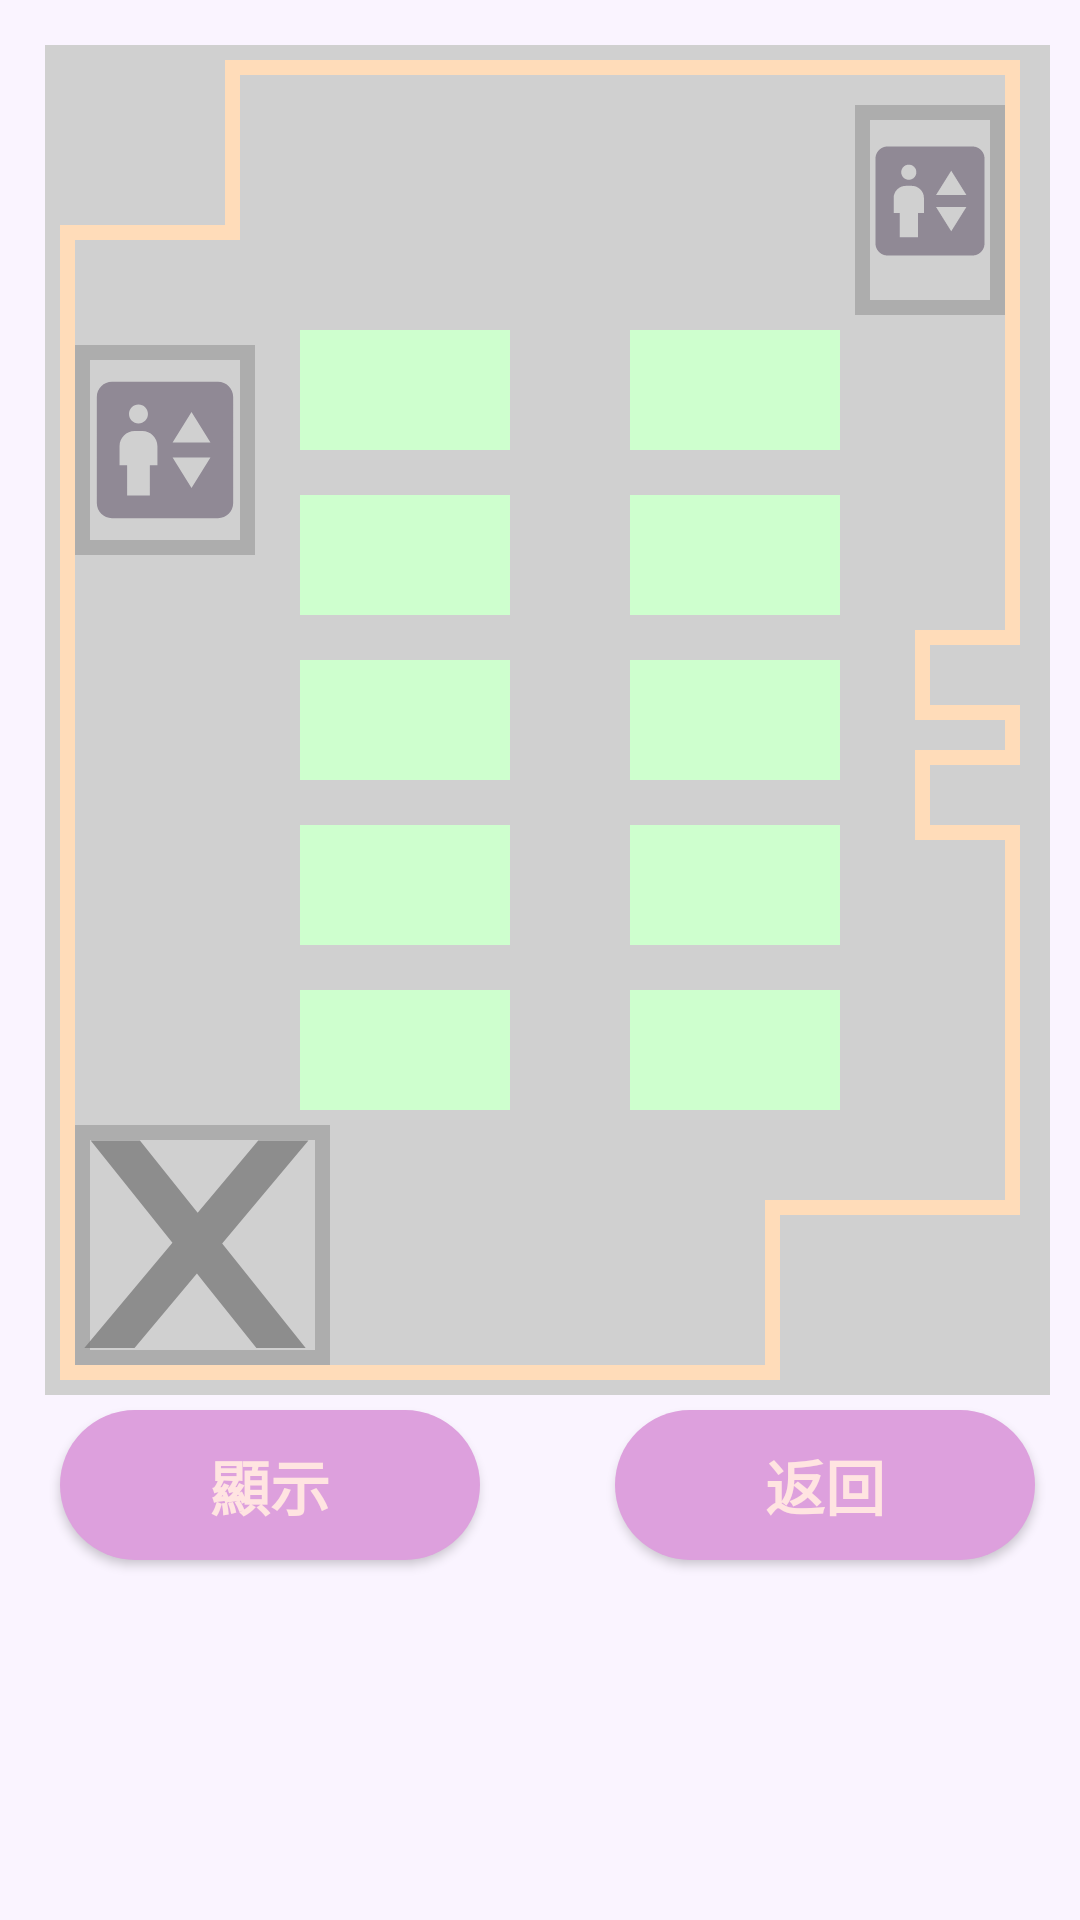

Icon click points for this 1080 × 1920 phone screenshot, format point (x, y):
elevator: point (930, 201), point (165, 450)
